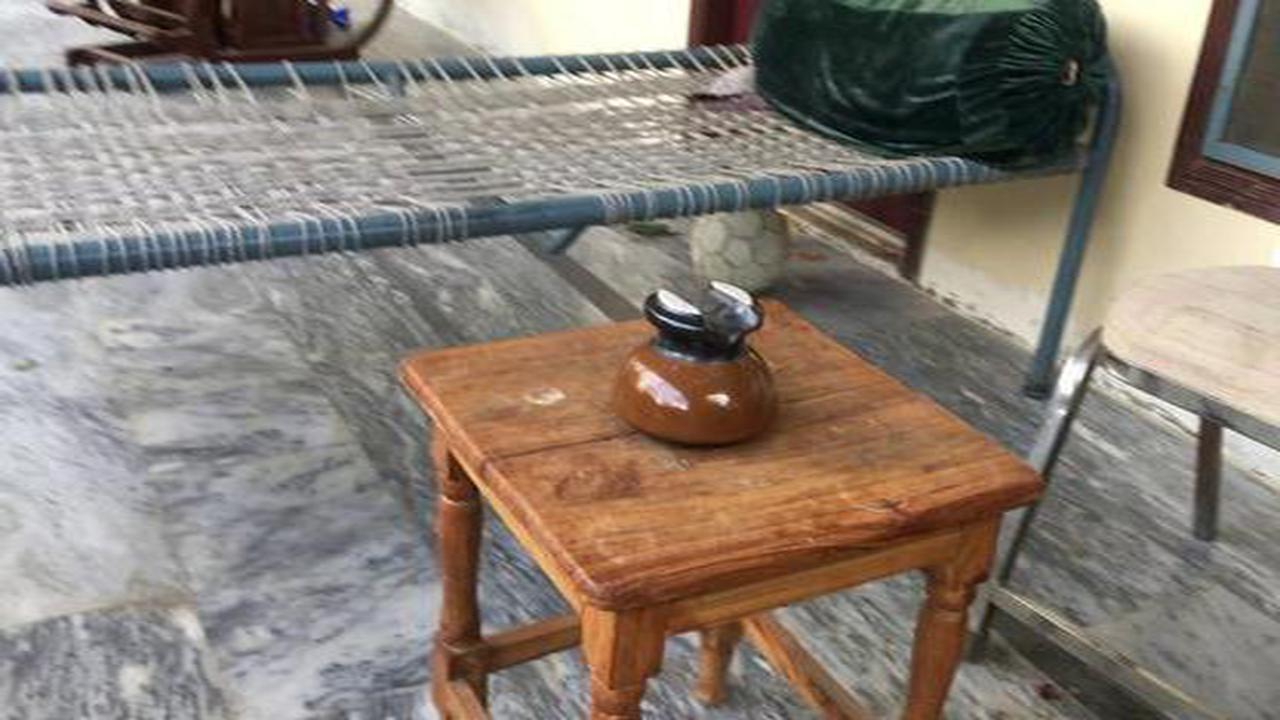insulator_pin: (597, 258, 794, 457)
